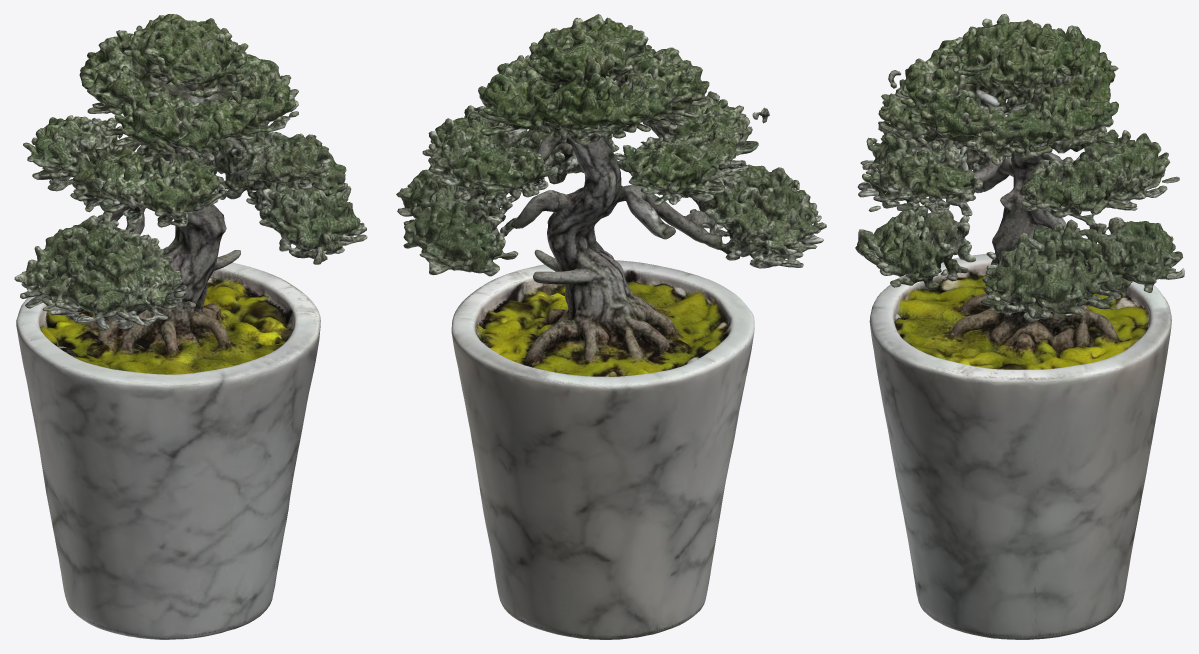
The model's file is Modelo3D-optimized.glb.
The picture shows the model from 3 angles, left to right: view 1: azimuth 30°, elevation 25°; view 2: azimuth 150°, elevation 25°; view 3: azimuth 270°, elevation 25°; orthographic projection.
Parts seen in each view (by area): view 1: world; view 2: world; view 3: world.
Boxes of the visible parts, bbox=[...] form: world: bbox=[14, 14, 367, 639]; world: bbox=[396, 14, 826, 639]; world: bbox=[855, 14, 1184, 639].
Bounding box in the file's own units: 0.6581 × 1 × 0.5171.
Materials: 1 (1 with a texture image).
